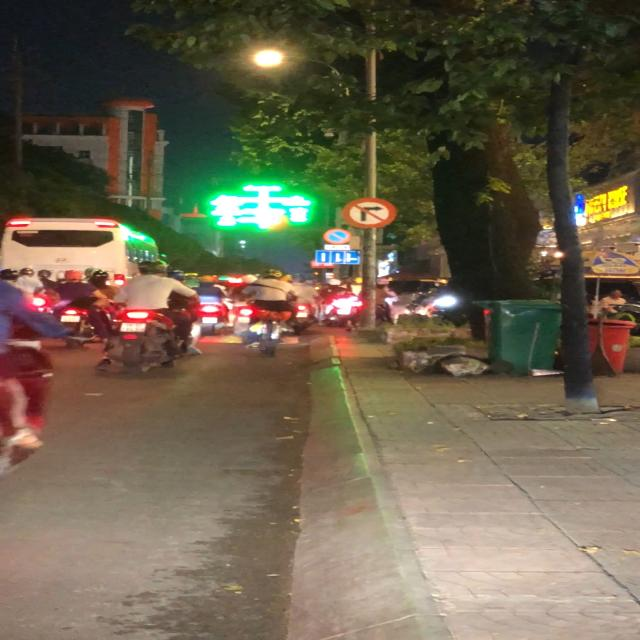Bien bao cam re phai: (340, 198, 400, 230)
